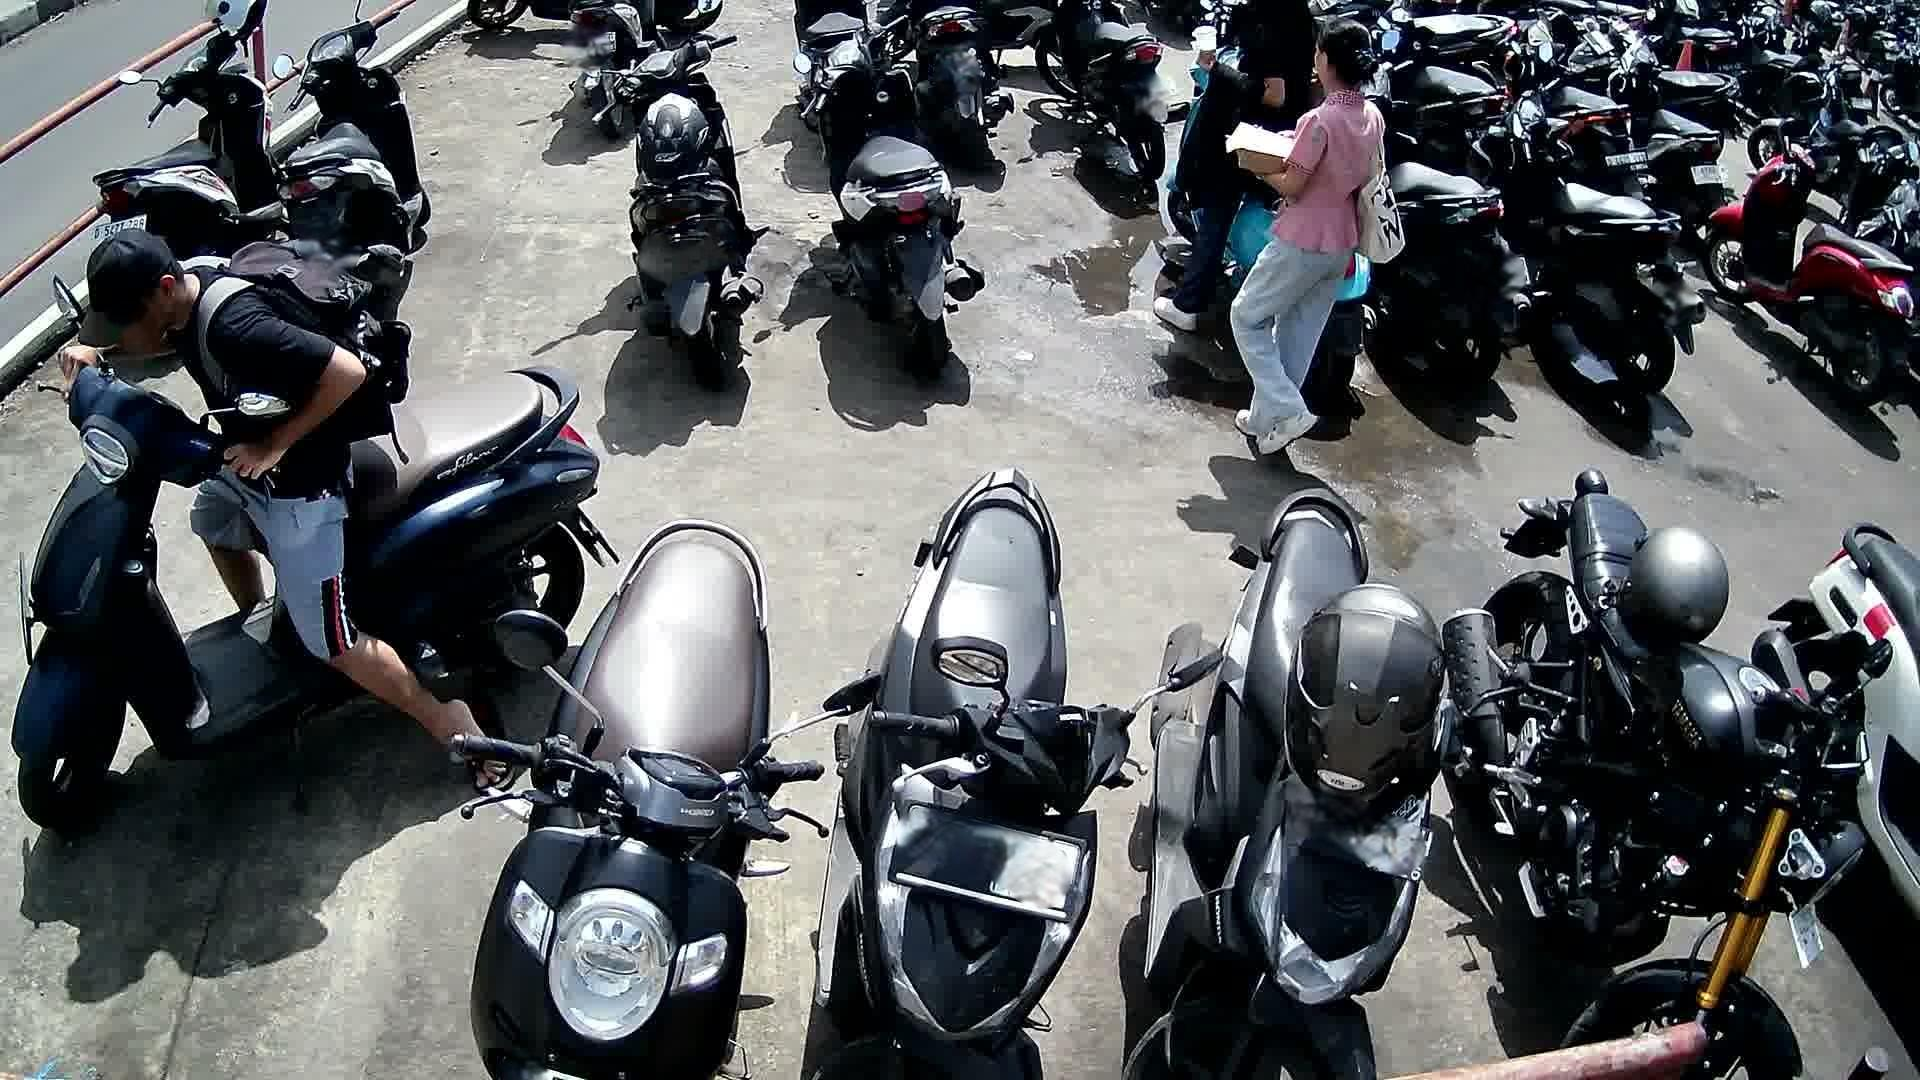motorcycle: (12, 277, 617, 832), (1441, 468, 1892, 1080), (818, 465, 1222, 1080), (1120, 488, 1532, 1080), (458, 513, 882, 1080), (1470, 76, 1706, 400), (791, 15, 986, 378), (1753, 521, 1920, 924), (593, 1, 767, 386), (1700, 112, 1920, 407), (272, 16, 433, 289), (91, 29, 286, 249), (1389, 161, 1532, 392)
